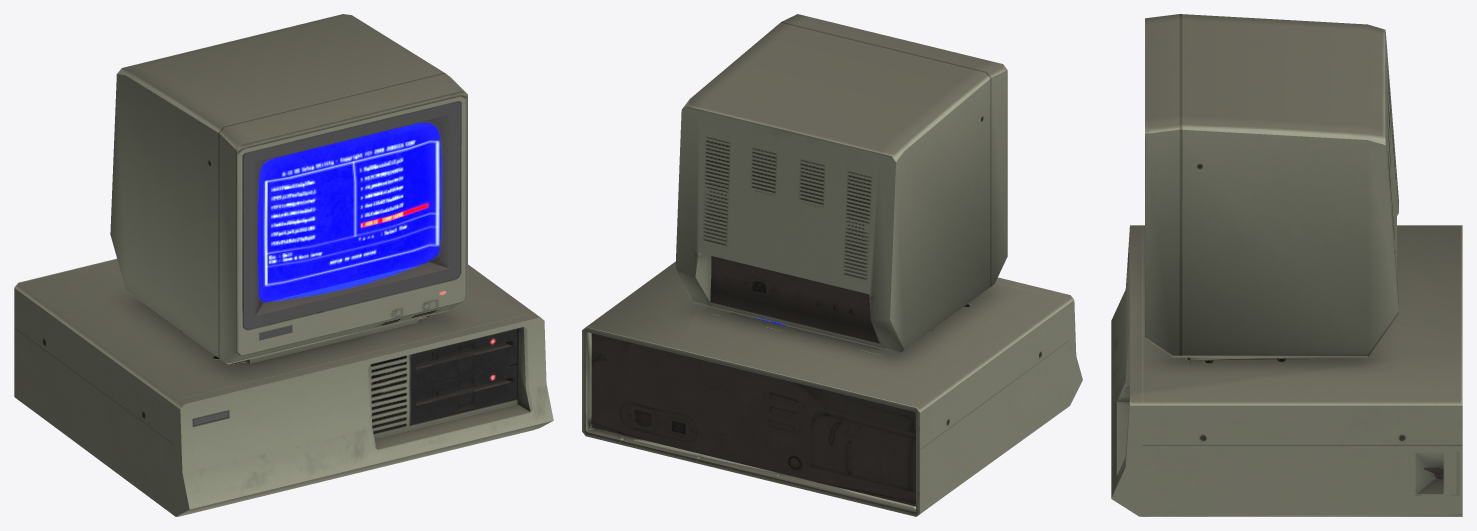
File: awakened_pc.glb
The picture shows the model from 3 angles, left to right: view 1: azimuth 30°, elevation 25°; view 2: azimuth 150°, elevation 25°; view 3: azimuth 270°, elevation 25°; orthographic projection. The views are drawn at different scales.
Visible parts, largest first — view 1: Box001; view 2: Box001; view 3: Box001.
Boxes of the visible parts, box(x1,y1,x2,y2) form: Box001: box(14, 14, 553, 516); Box001: box(582, 14, 1082, 516); Box001: box(1111, 14, 1462, 516).
Size of the model in its own units: 2739 by 2627 by 2286.
1 material, 1 textured.
